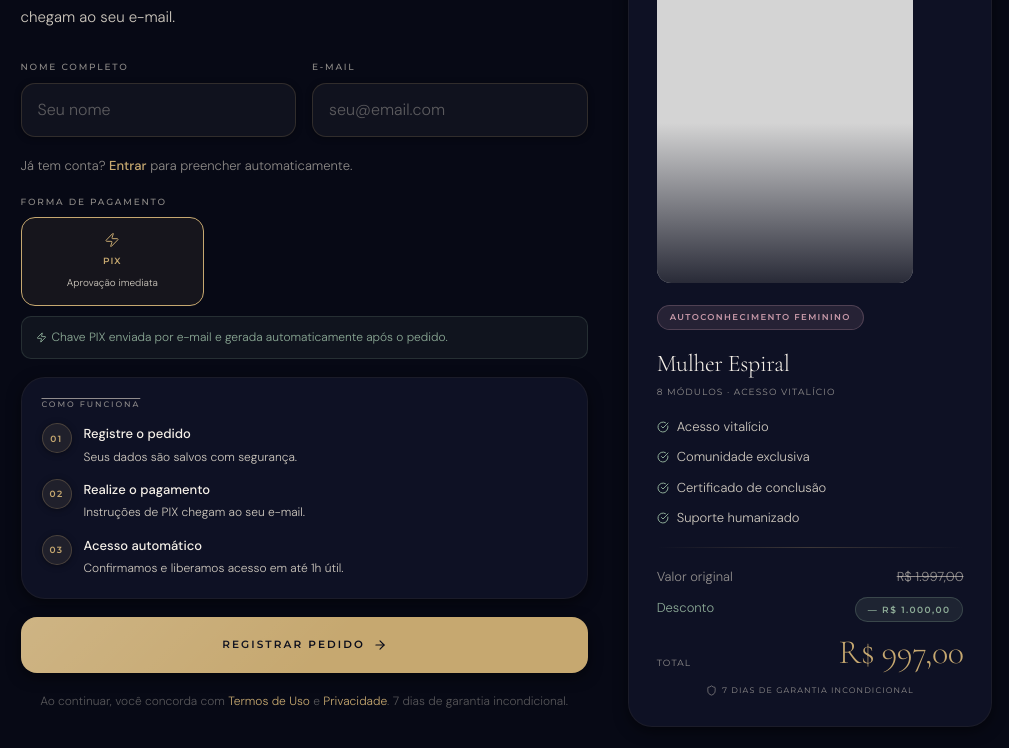
Test: CheckoutPage — form validation › clears name error when user starts typing name
(page scrolled)
// Trigger validation first
Click the button "Registrar pedido". click: (304, 645)
box: [20,617,588,673]
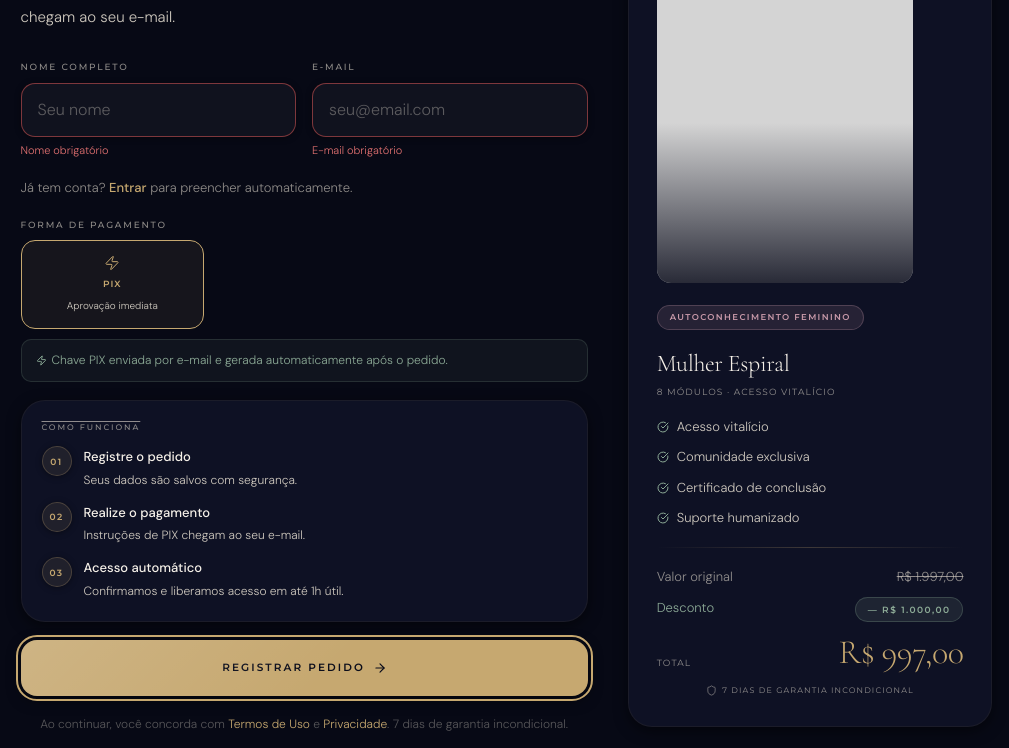
Now the text "Nome obrigatório" is shown, box [20,142,108,156]
// Start typing name
Type "A" into the field with placeholder "Seu nome". click: (158, 110)
box: [20,82,296,136]
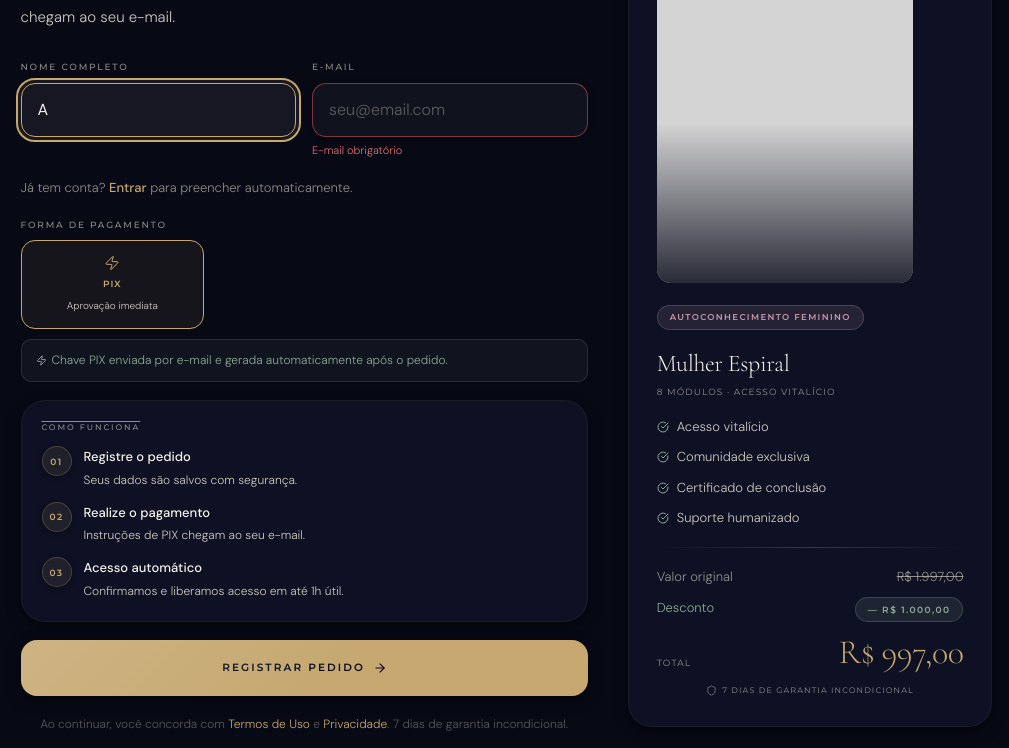
Now the text "Nome obrigatório" is gone
